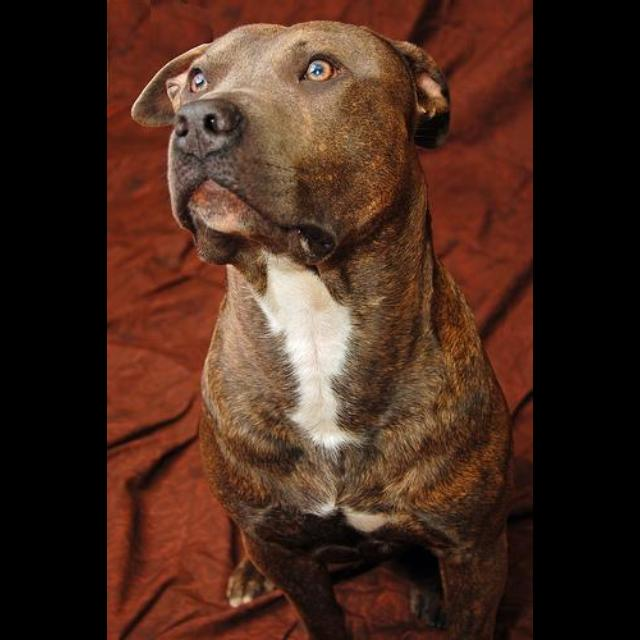amstaff: (131, 19, 517, 639)
